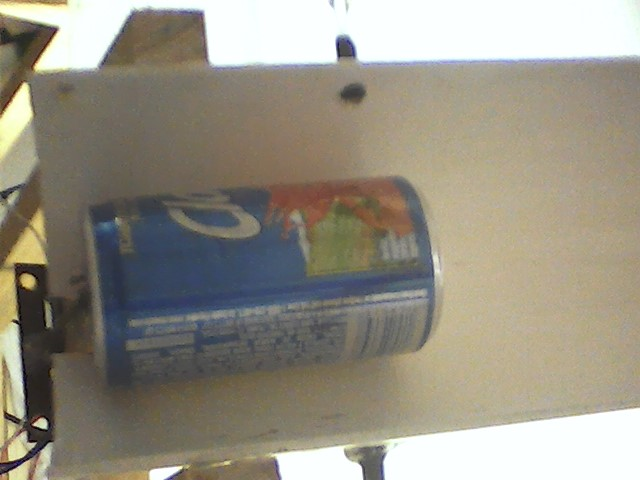lata: (64, 172, 450, 395)
